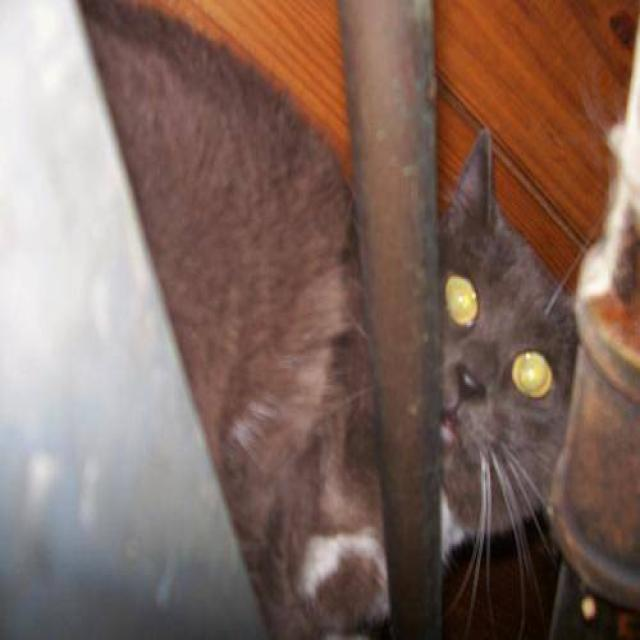cat: (65, 0, 579, 638)
